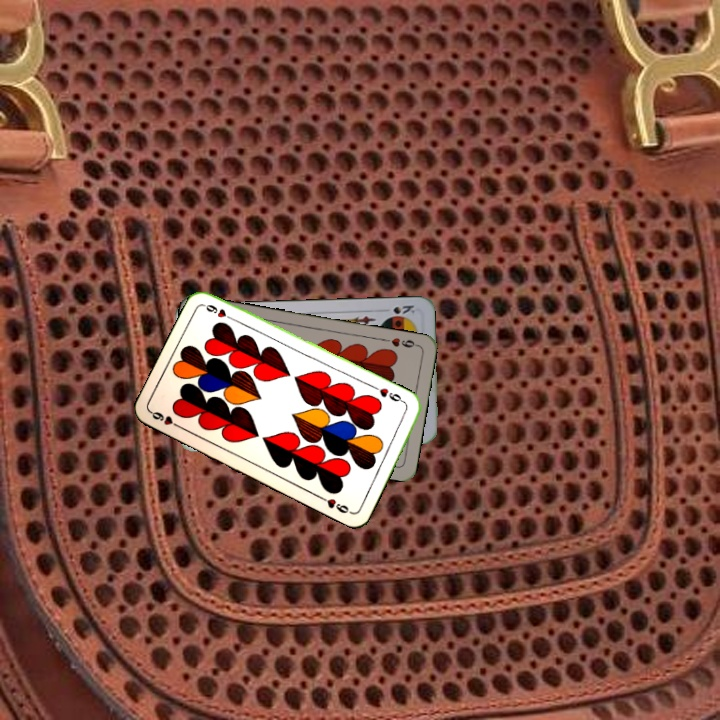H9: (147, 406, 185, 431), (371, 383, 409, 407), (380, 334, 421, 350)
SK: (378, 301, 417, 317)
